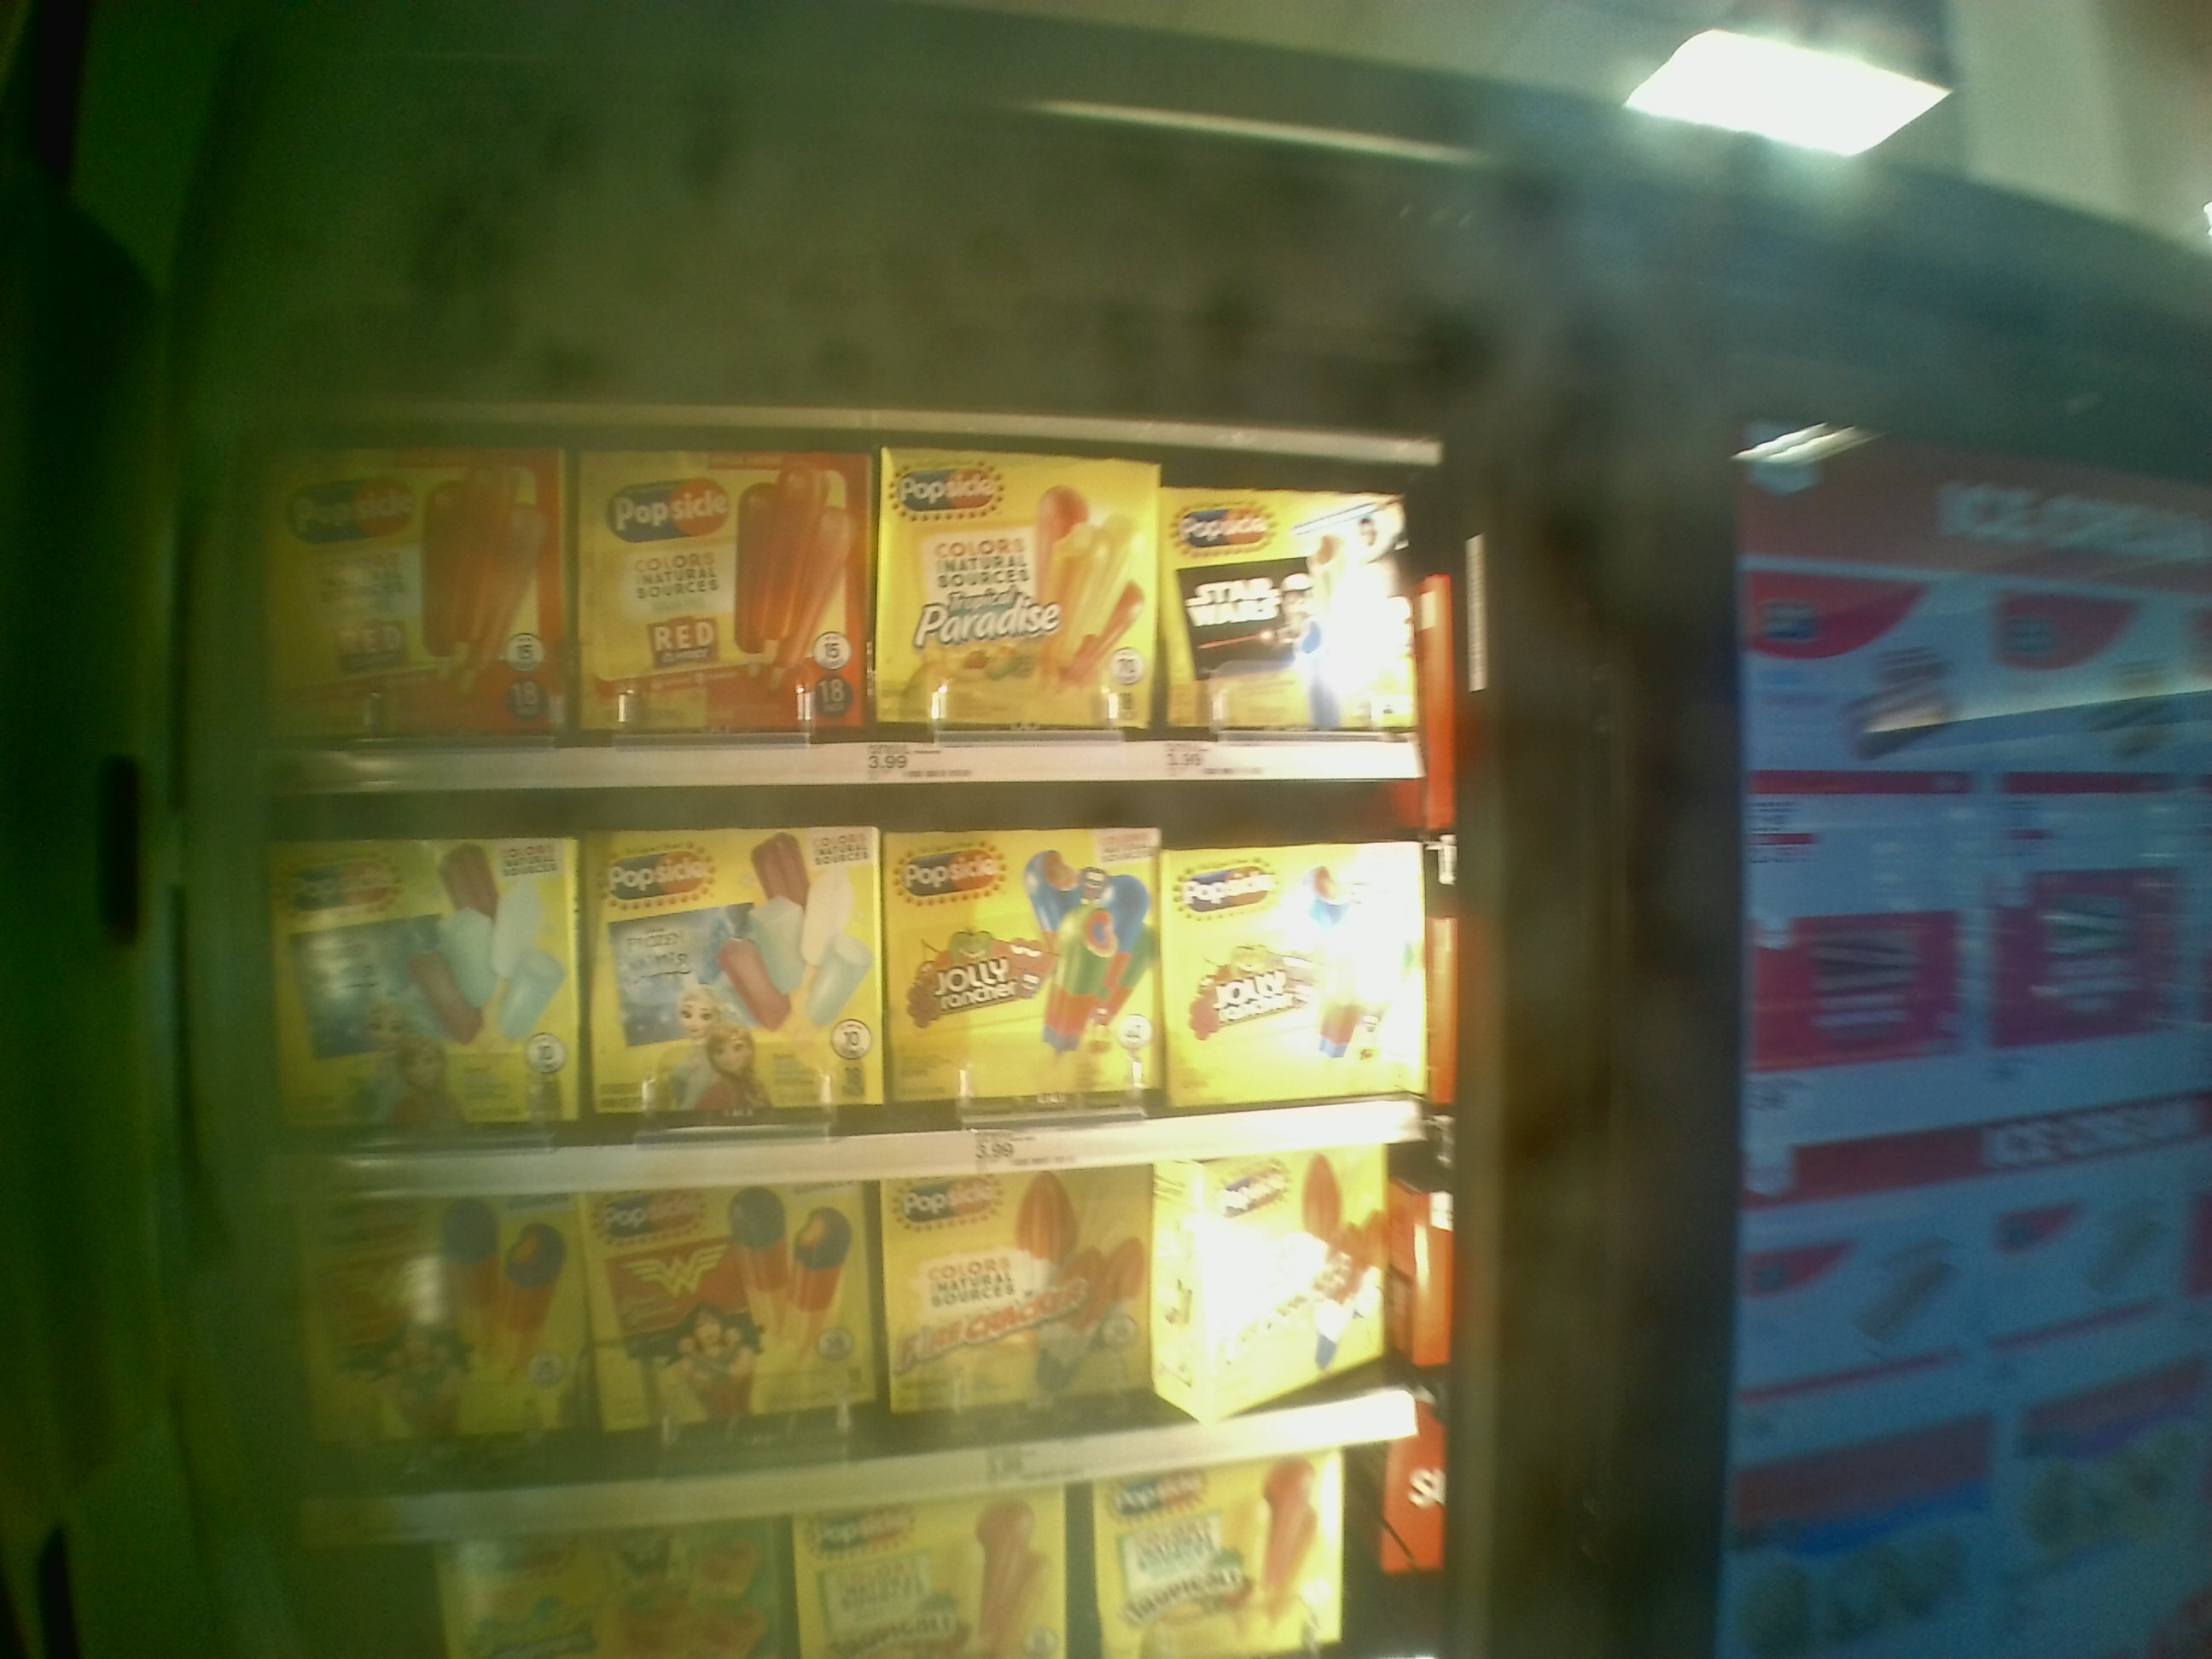shelf: (265, 382, 1453, 769), (284, 772, 1433, 1161), (300, 1171, 1430, 1540)
